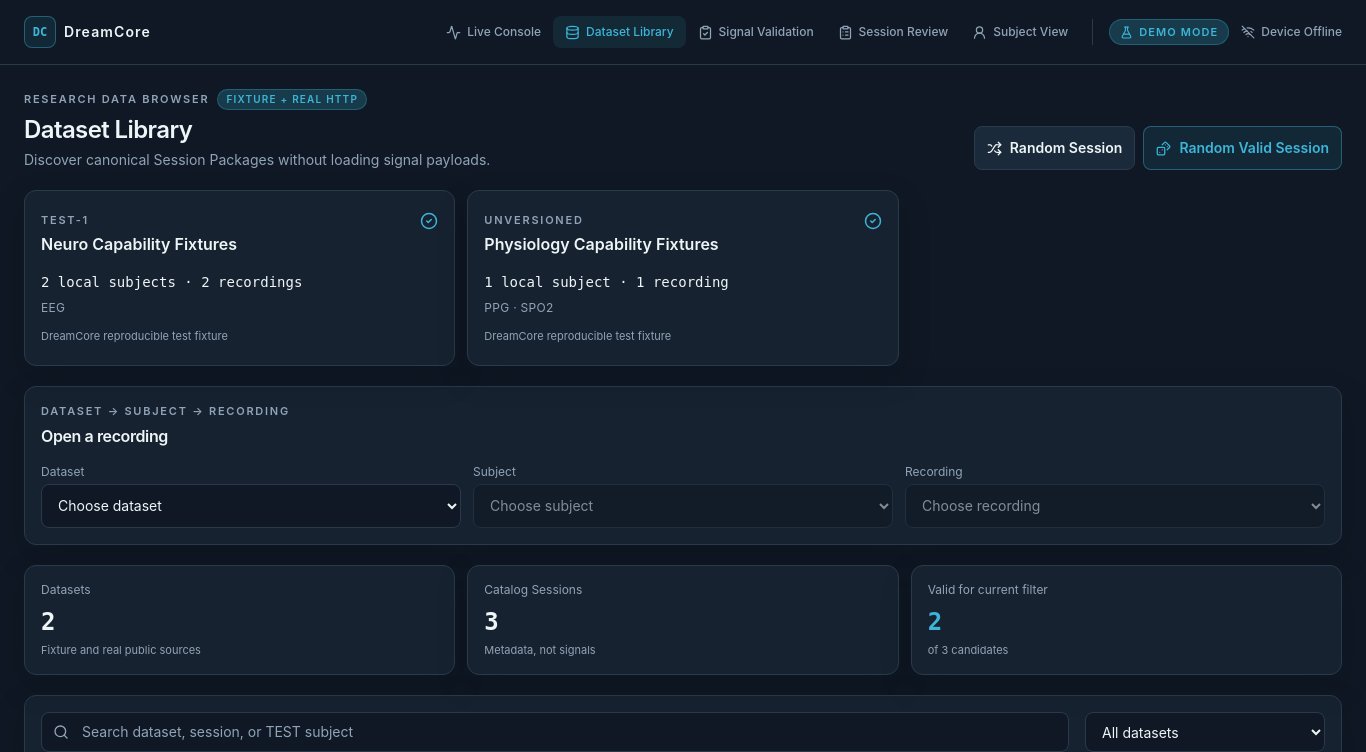
Test case: Dataset Library and session loading › navigates Dataset to Subject to Recording before opening the viewer
Select "Neuro Capability Fixtures" in the dropdown labelled "Dataset" at (251, 506), box [41,484,461,528]
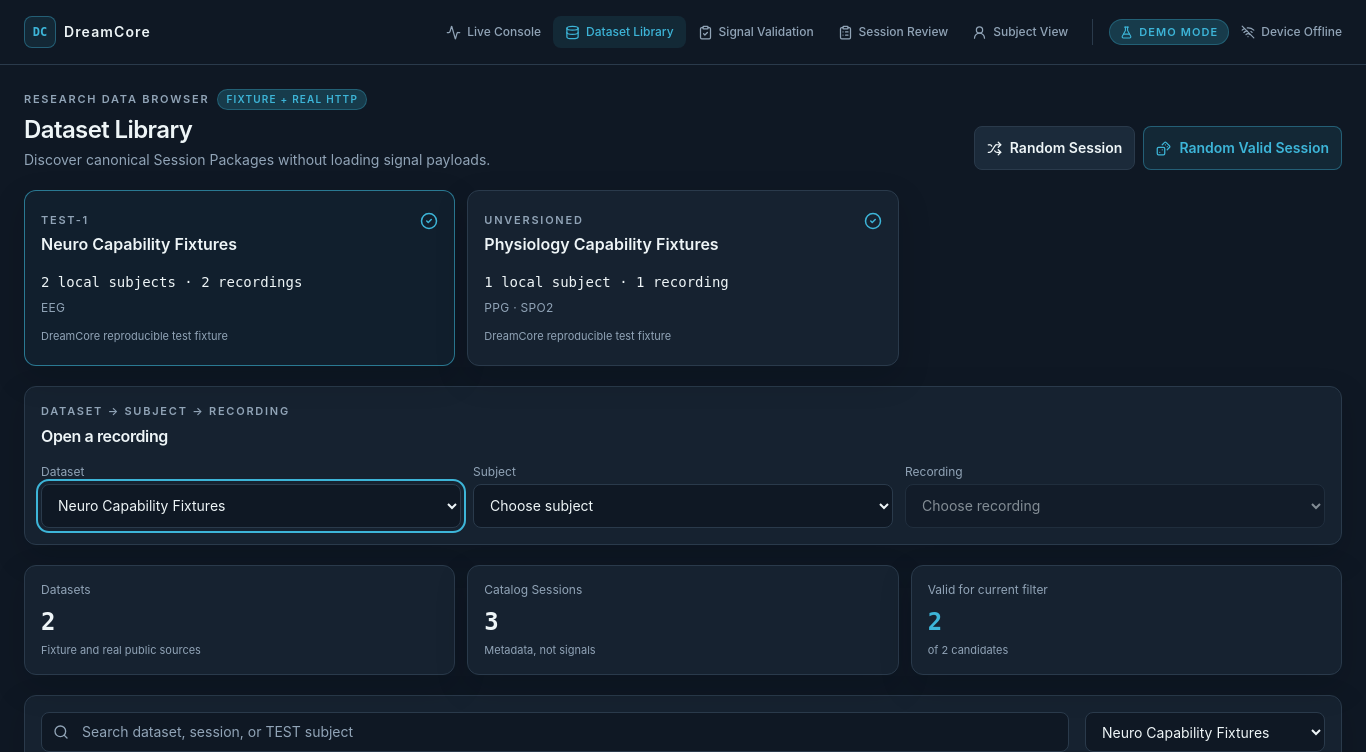
Select "TEST-SUBJECT-A" in the dropdown labelled "Subject" at (683, 506), box [473,484,893,528]
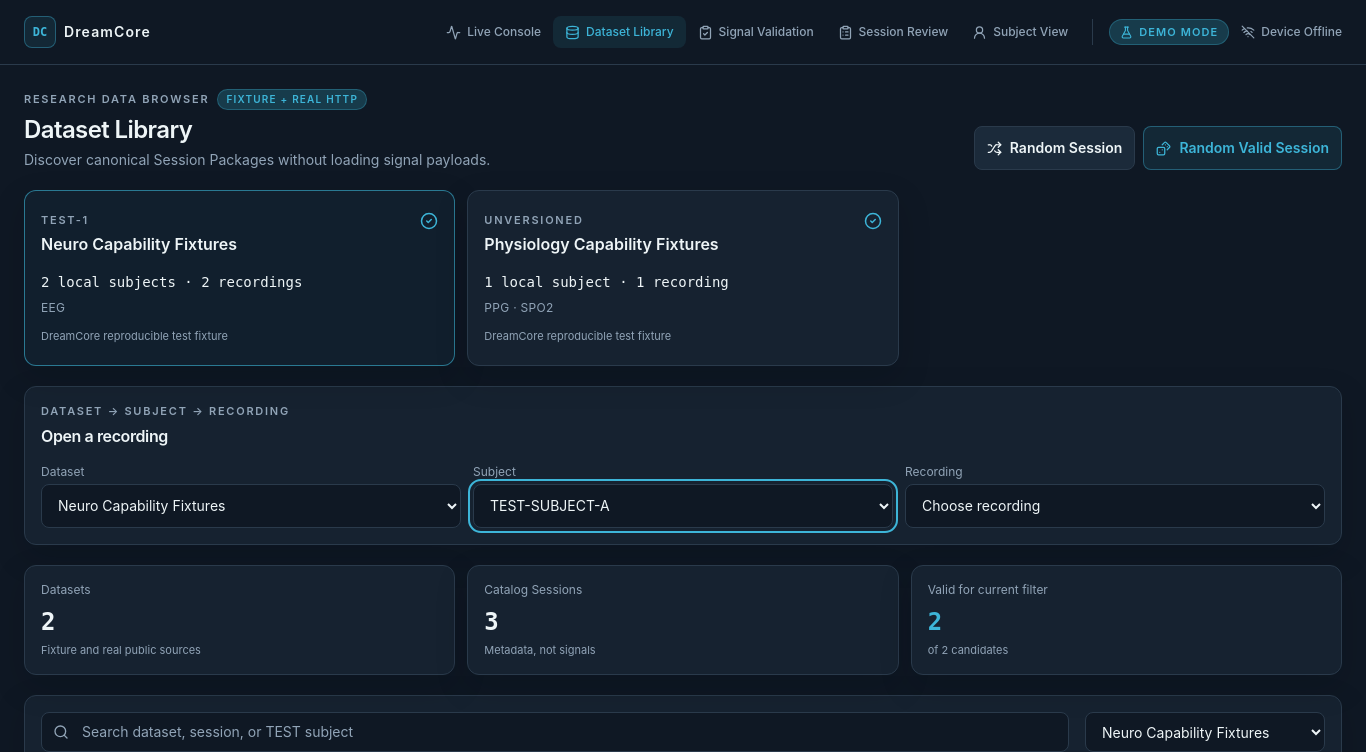
Select "fixture-a" in the dropdown labelled "Recording" at (1115, 506), box [905,484,1325,528]
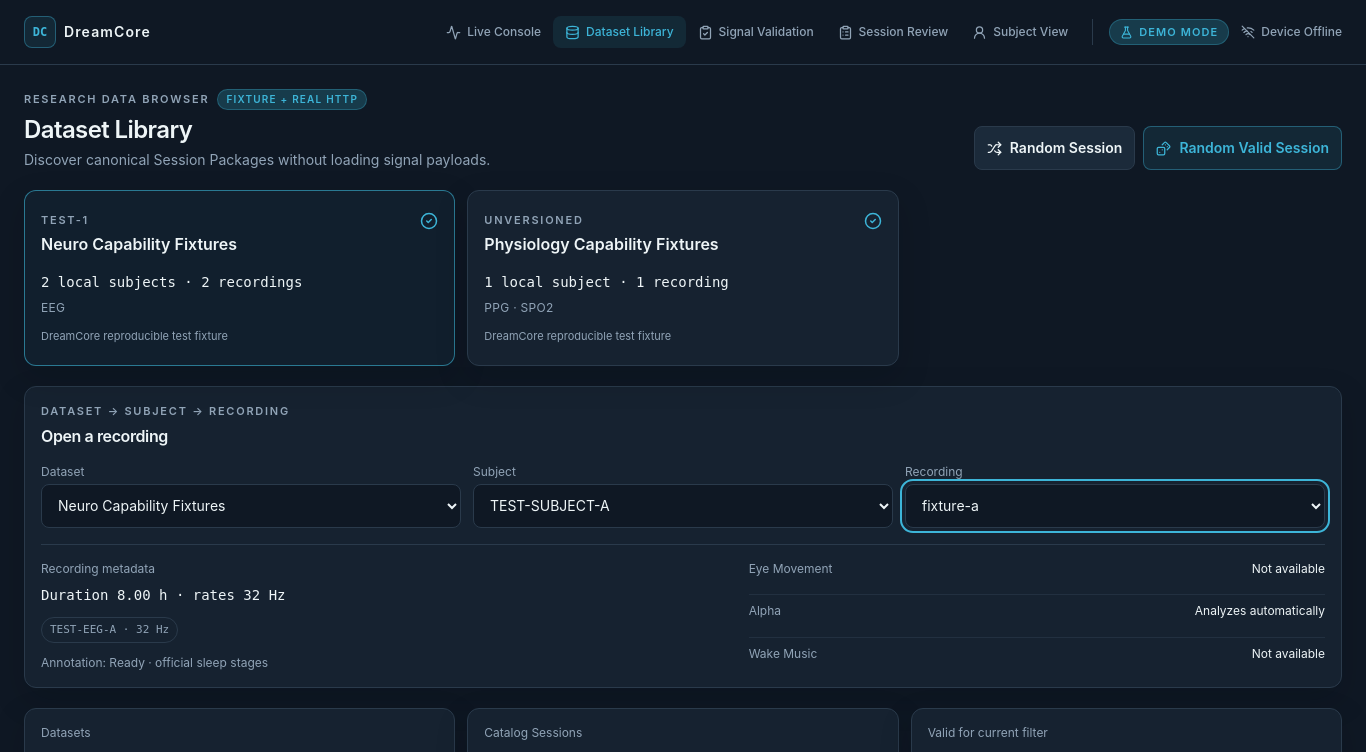
expect the text "Duration 8.00 h · rates 32 Hz" is shown: met, box [41,586,286,602]
expect the text "Not available" in the row of "Eye Movement" is shown: met, box [1252,560,1325,576]
